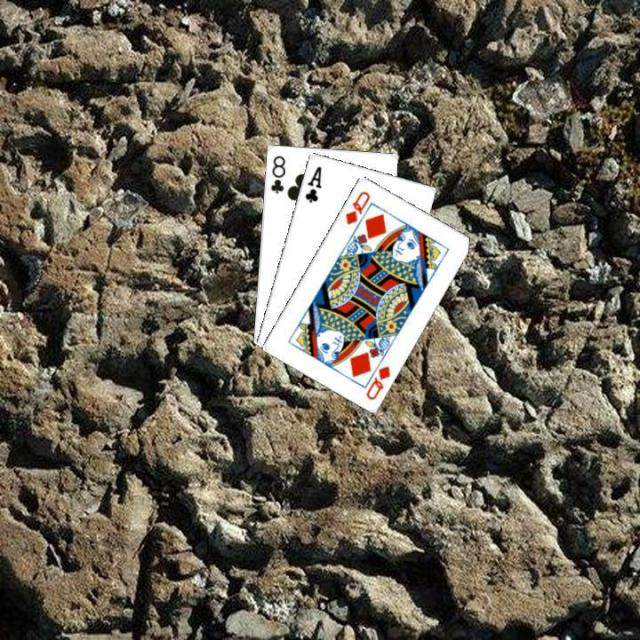8C: (266, 151, 287, 195)
AC: (300, 162, 324, 204)
QD: (362, 361, 392, 402), (342, 187, 372, 226)
